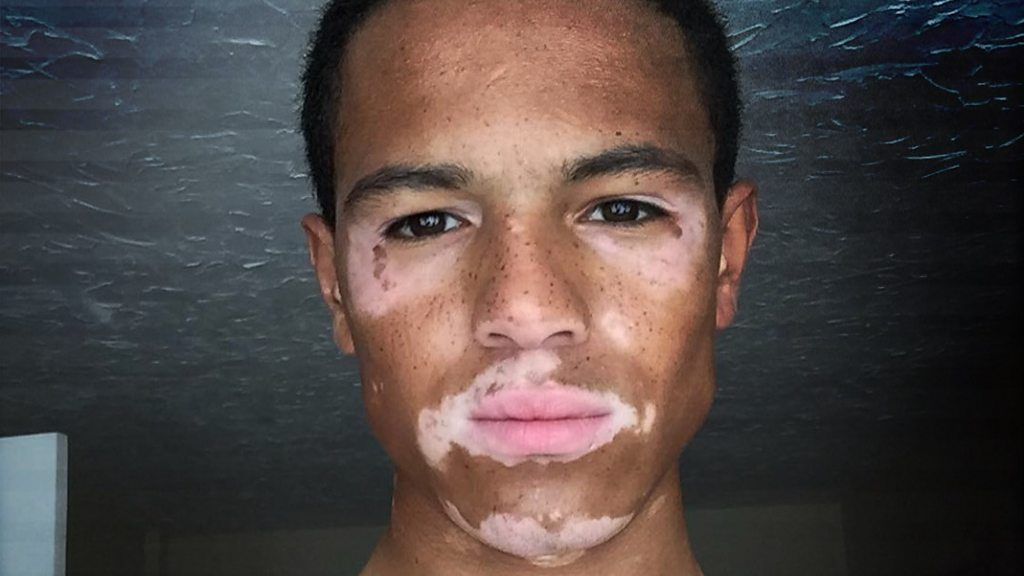Vitiligo: (348, 184, 723, 570)
